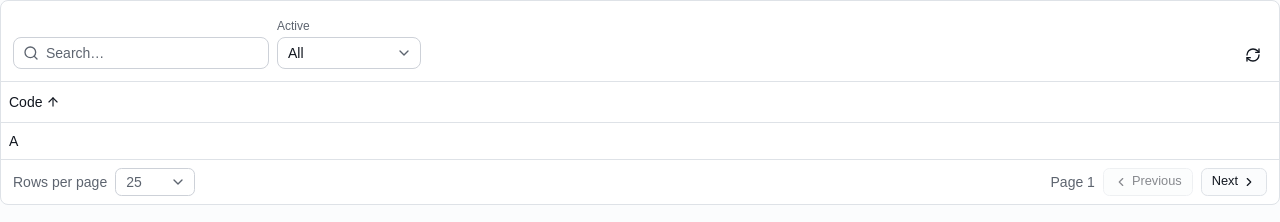
DataTable › loads pages with the cursor and sorts on the server
Expected: the link "A" is shown, [9,132,18,148]
Click the button "Next": (1234, 182) [1201,168,1267,196]
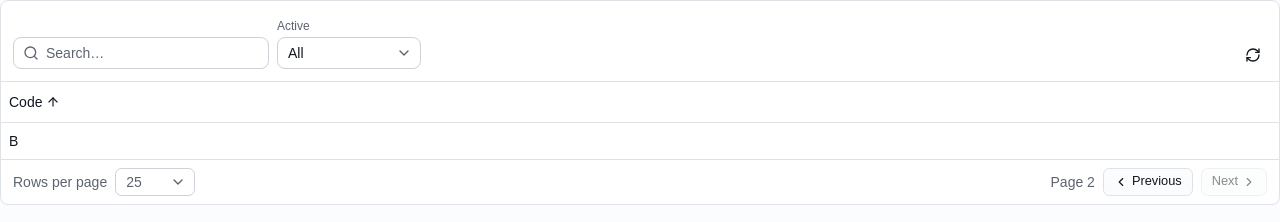
Expected: the link "B" is shown, [9,132,18,148]
Expected: the text "Page 2" is shown, [1050,172,1095,192]
Click the button "Code": (35, 102) [9,92,60,112]
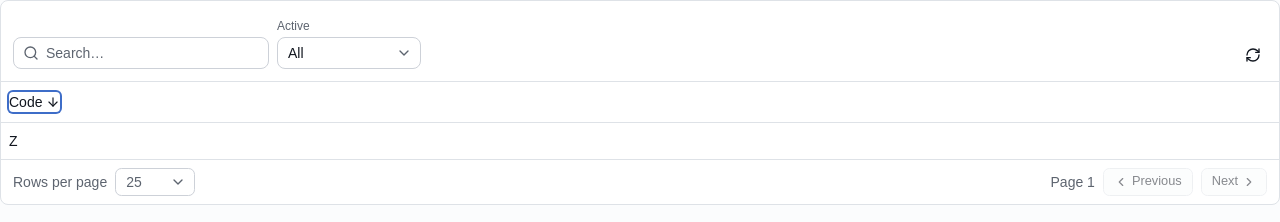
Expected: the text "Page 1" is shown, [1050,172,1095,192]
